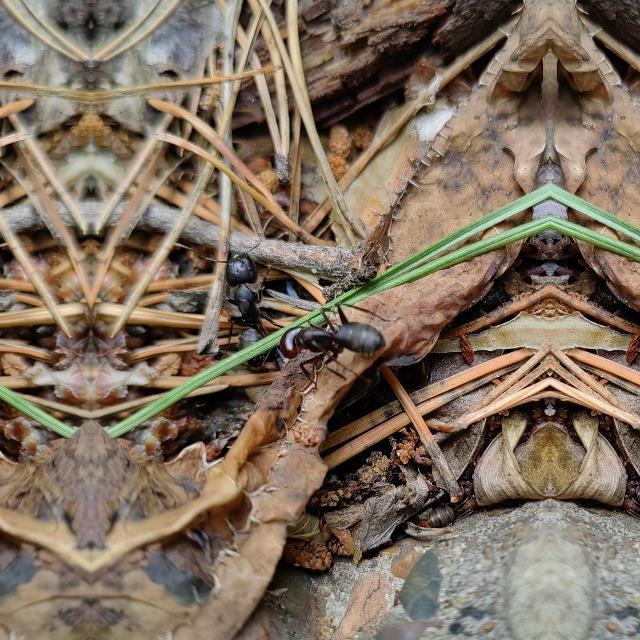Camponotus: (203, 240, 271, 358), (274, 314, 388, 382)
